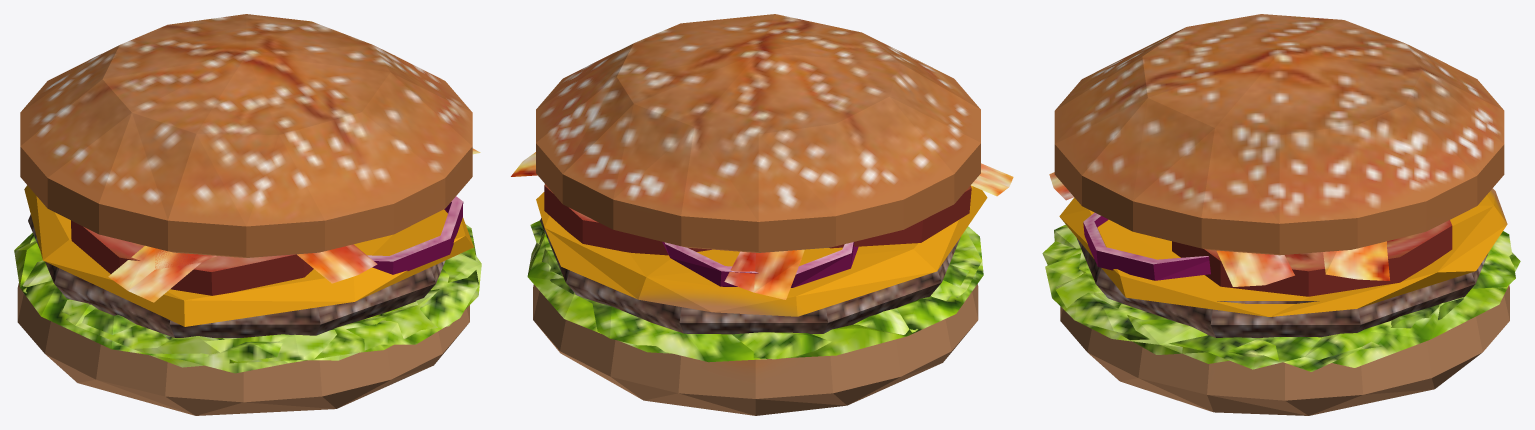
File: FOD0110030.fbx
3 views of the same model, side by side, from view 1: azimuth 30°, elevation 25°; view 2: azimuth 150°, elevation 25°; view 3: azimuth 270°, elevation 25° (orthographic).
Parts seen in each view (by area): view 1: smFOD0110030; view 2: smFOD0110030; view 3: smFOD0110030.
Part boxes in pixels (x1,y1,x2,y2): smFOD0110030: (14, 14, 481, 415); smFOD0110030: (511, 14, 1013, 415); smFOD0110030: (1042, 14, 1520, 415).
Size of the model in its own units: 22.68 by 14.4 by 22.57.
1 material, 1 textured.
